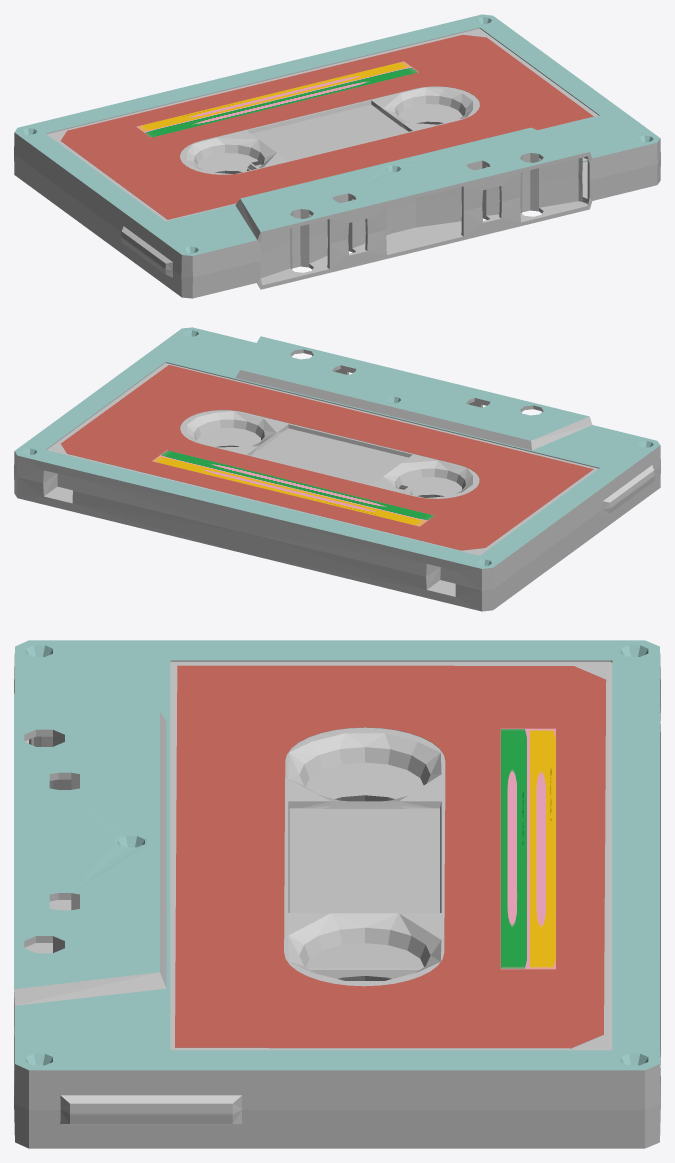
Rendered from cassette.dae.
The picture shows the model from 3 angles, top to bottom: view 1: azimuth 30°, elevation 25°; view 2: azimuth 150°, elevation 25°; view 3: azimuth 270°, elevation 25°; orthographic projection. The views are drawn at different scales.
Visible parts, largest first — view 1: CassetteShell_001, CassetteLabel_001, TapeWindow_001, label-side1; view 2: CassetteShell_001, CassetteLabel_001, TapeWindow_001, label-side1; view 3: CassetteShell_001, CassetteLabel_001, TapeWindow_001, label-side1.
Part boxes in pixels (box(x1,y1,x2,y2)): CassetteShell_001: box(14, 14, 660, 298); CassetteLabel_001: box(61, 35, 593, 219); TapeWindow_001: box(245, 104, 408, 170); label-side1: box(136, 61, 418, 137); CassetteShell_001: box(14, 327, 660, 611); CassetteLabel_001: box(61, 365, 593, 550); TapeWindow_001: box(251, 428, 413, 494); label-side1: box(152, 450, 434, 526); CassetteShell_001: box(14, 640, 660, 1148); CassetteLabel_001: box(175, 665, 606, 1048); TapeWindow_001: box(289, 808, 439, 968); label-side1: box(500, 728, 555, 969).
Bounding box in the file's own units: 1.02 × 0.636 × 0.115.
6 materials, 1 textured.
